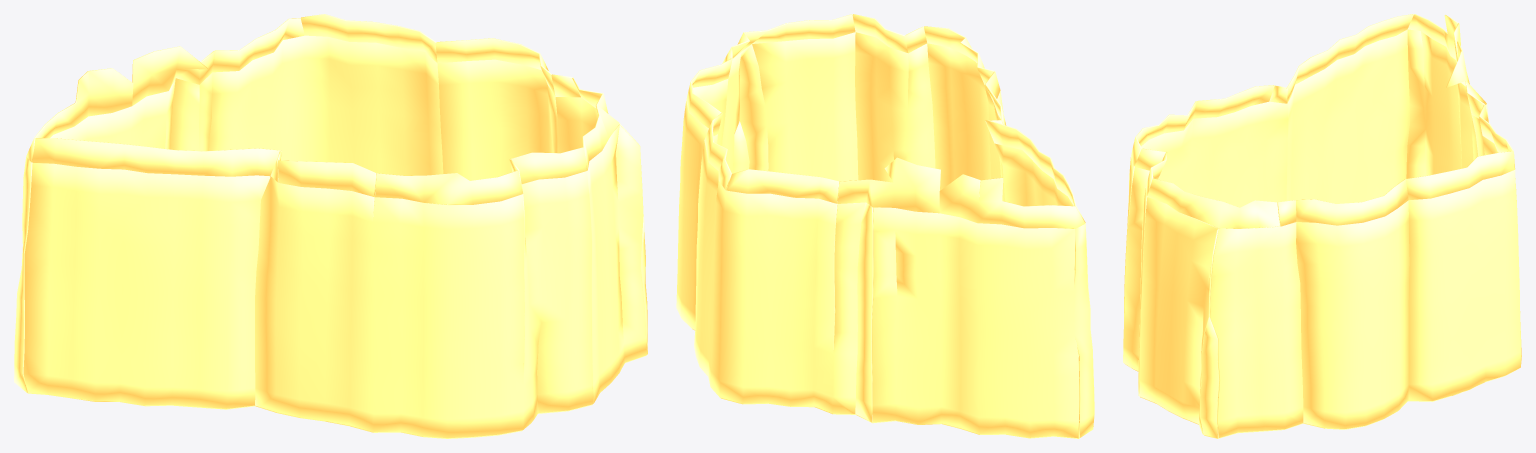
File: smithy_hover.glb
3 views of the same model, side by side, from view 1: azimuth 30°, elevation 25°; view 2: azimuth 150°, elevation 25°; view 3: azimuth 270°, elevation 25° (orthographic). The views are drawn at different scales.
Parts seen in each view (by area): view 1: smithy_emission; view 2: smithy_emission; view 3: smithy_emission.
Boxes of the visible parts, box(x1,y1,x2,y2) form: smithy_emission: box(14, 14, 647, 438); smithy_emission: box(676, 14, 1094, 438); smithy_emission: box(1123, 14, 1521, 438).
Size of the model in its own units: 2.22 by 1.15 by 1.72.
